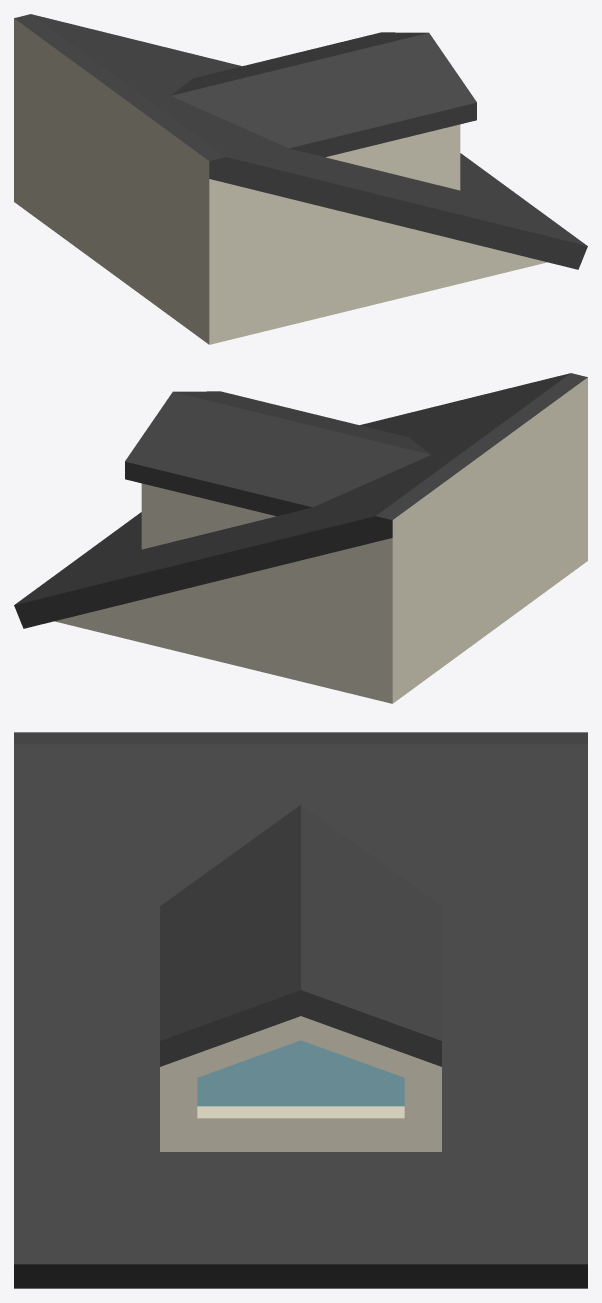
Rendered from roof_003.dae.
3 renders of one model, top to bottom at view 1: azimuth 30°, elevation 25°; view 2: azimuth 150°, elevation 25°; view 3: azimuth 270°, elevation 25°, orthographic. The views are drawn at different scales.
Visible parts, largest first — view 1: roof_003; view 2: roof_003; view 3: roof_003.
Boxes of the visible parts, x1,y1,x2,y2 form: roof_003: [14, 14, 587, 344]; roof_003: [14, 373, 587, 703]; roof_003: [14, 732, 587, 1288].
Size of the model in its own units: 1.12 by 0.5612 by 1.
